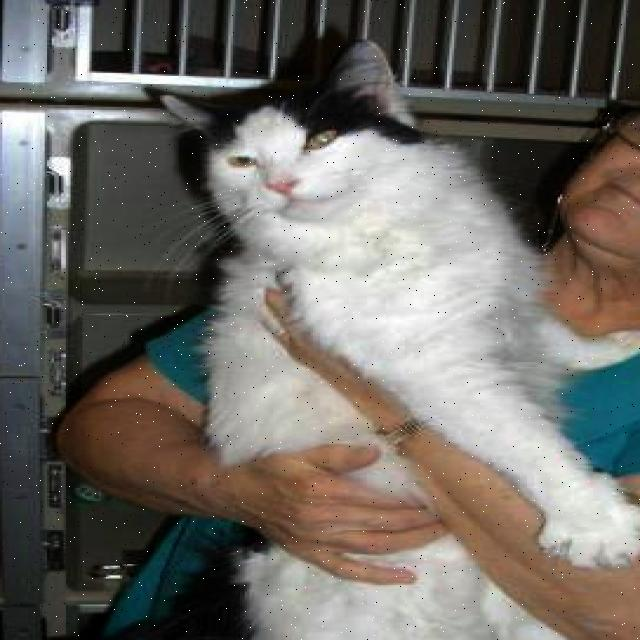Cat: (138, 56, 478, 252)
